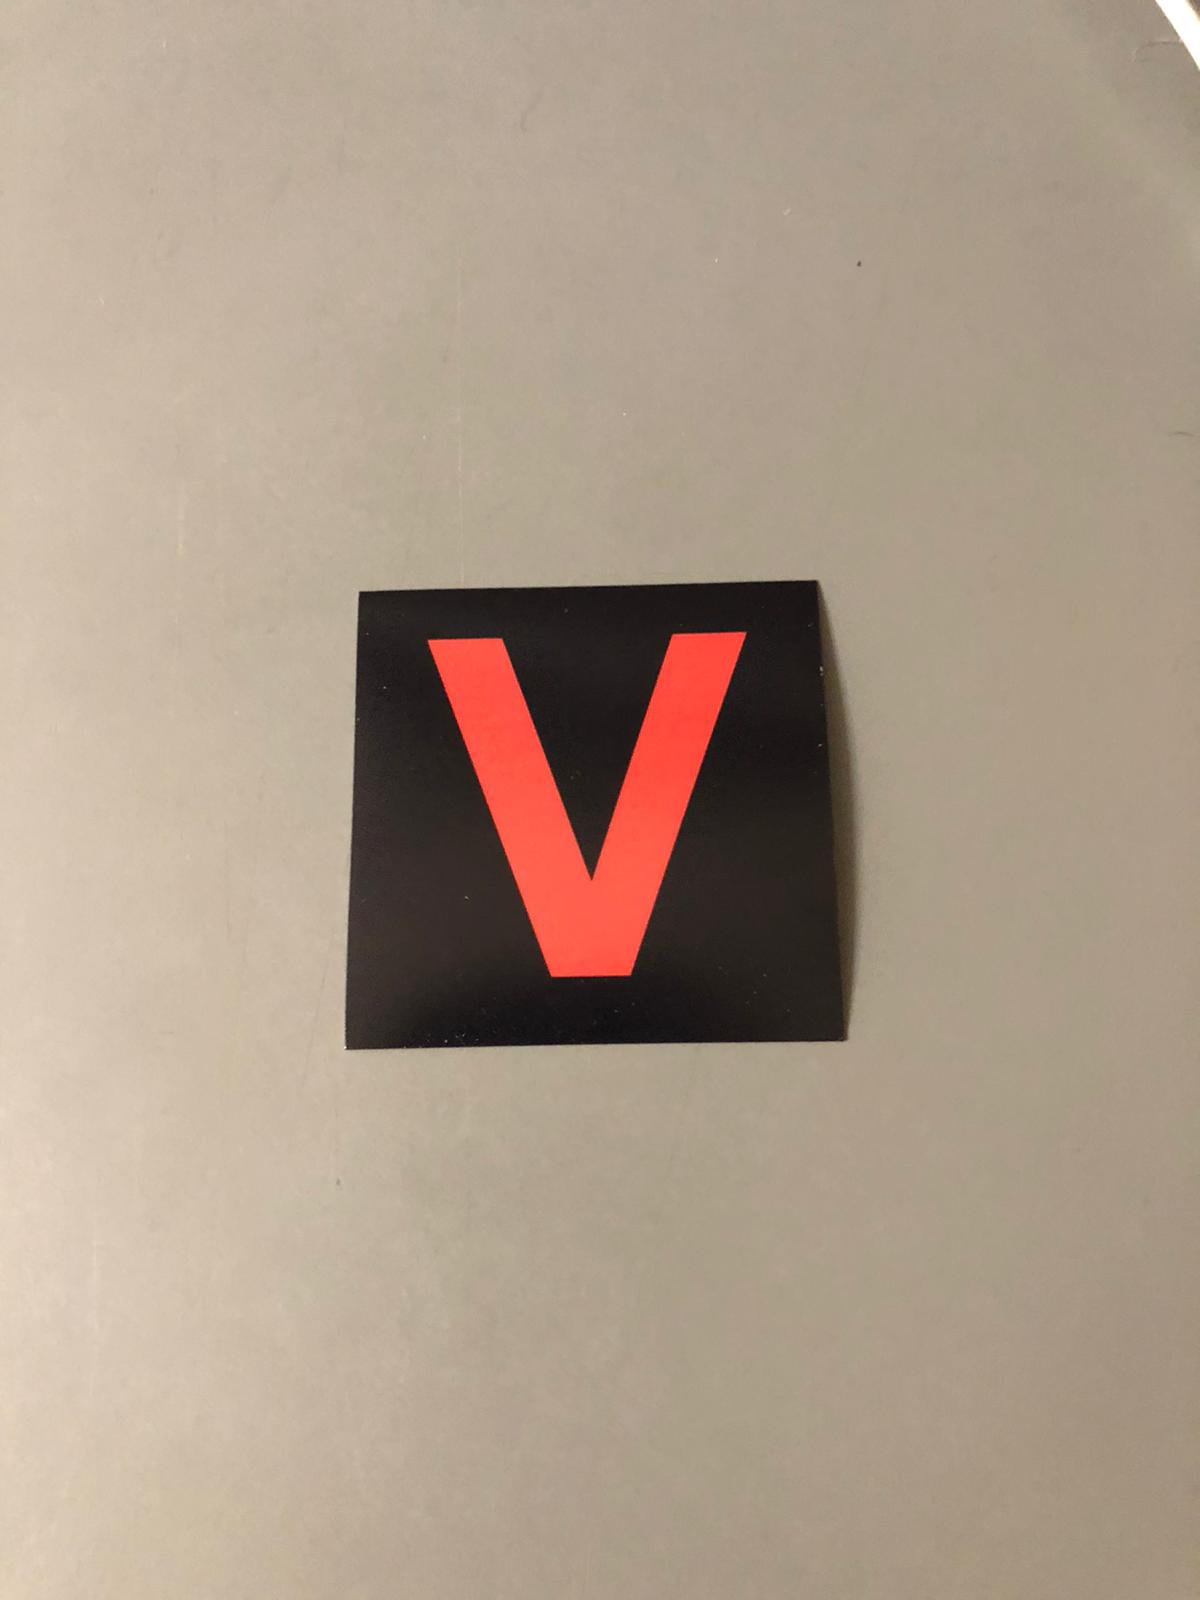V: (355, 605, 831, 1018)
